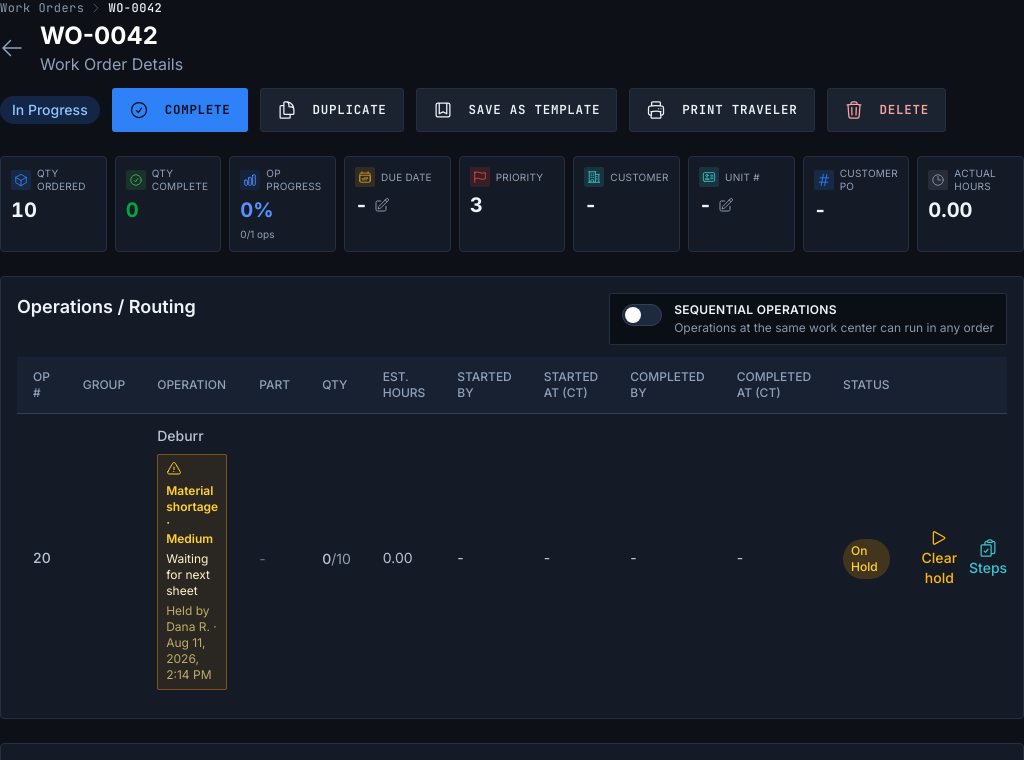
Test: WorkOrderDetail — why an operation is held (fix D) › shows an ordinary hold reason and says clearing it is sufficient
This screenshot has width=1024, height=760.
expect the text "Deburr" is shown: met, box x1=157 y1=426 x2=204 y2=444
expect the text "Material shortage · Medium" is shown: met, box x1=166 y1=482 x2=218 y2=546
Click the button titled "Lift the hold on this operation": (939,558) x1=922 y1=527 x2=957 y2=588
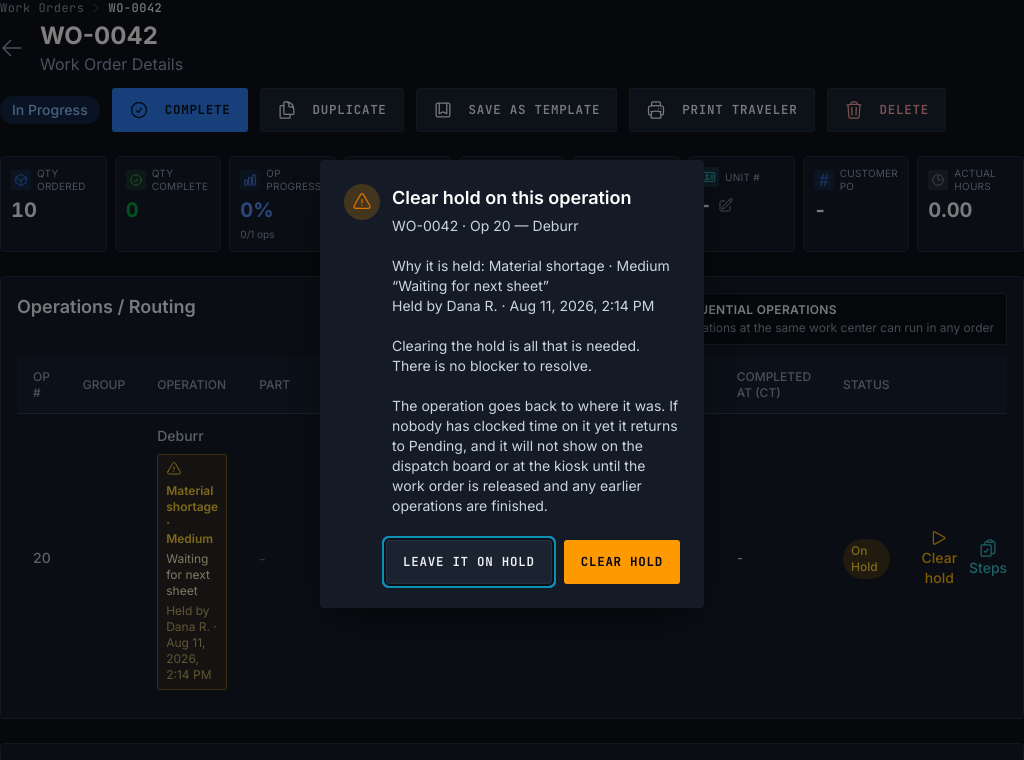
expect the dialog shows "Waiting for next sheet": met, box x1=392 y1=217 x2=678 y2=514
expect the dialog shows "Clearing the hold is all that is needed. There is no blocker to resolve.": met, box x1=392 y1=217 x2=678 y2=514
